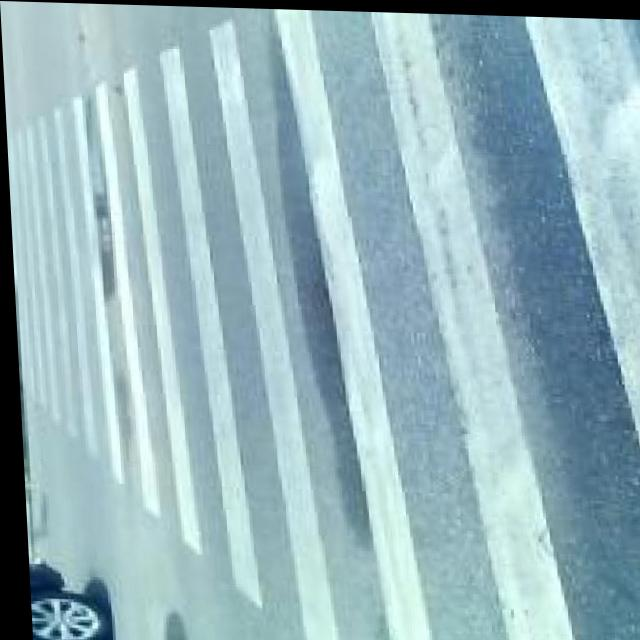zebra: (21, 63, 628, 440)
